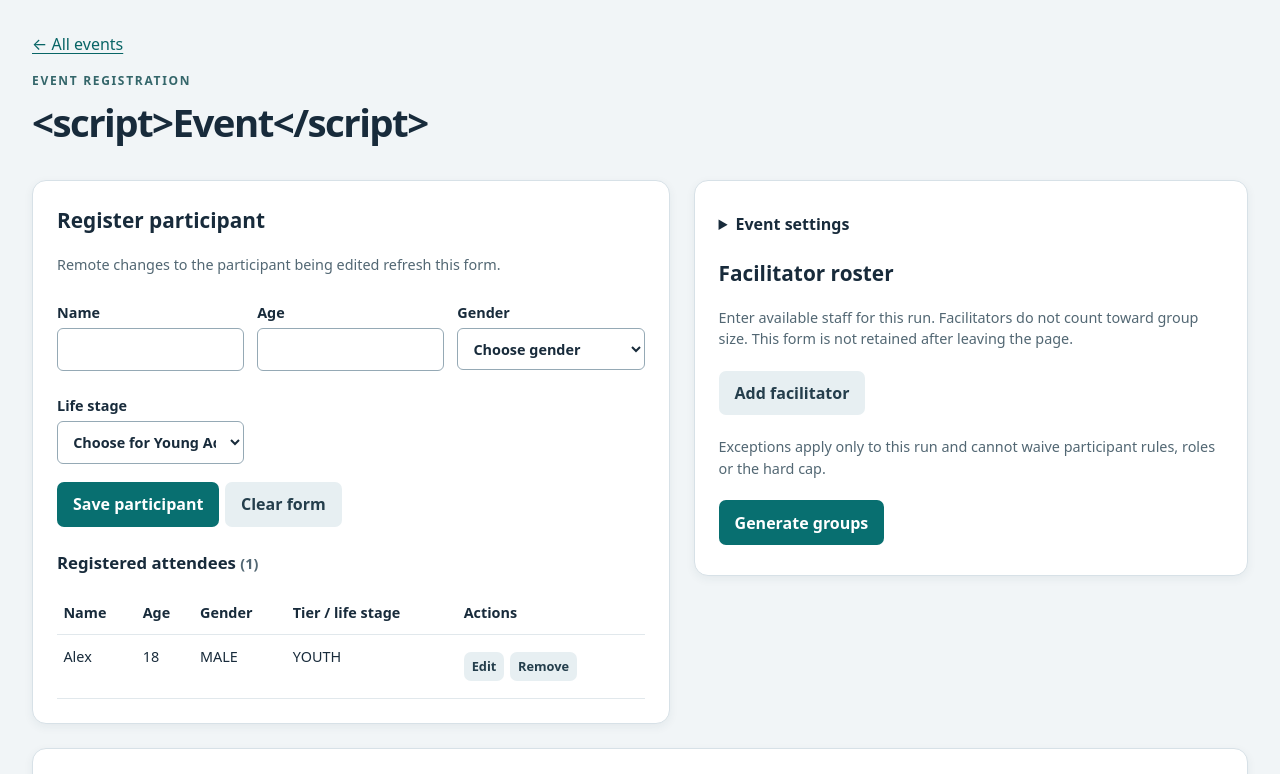
it: React registration › edits and removes the selected participant without replacing its event ownership
Click the button "Edit": (484, 666) top-left (464, 652), bottom-right (504, 681)
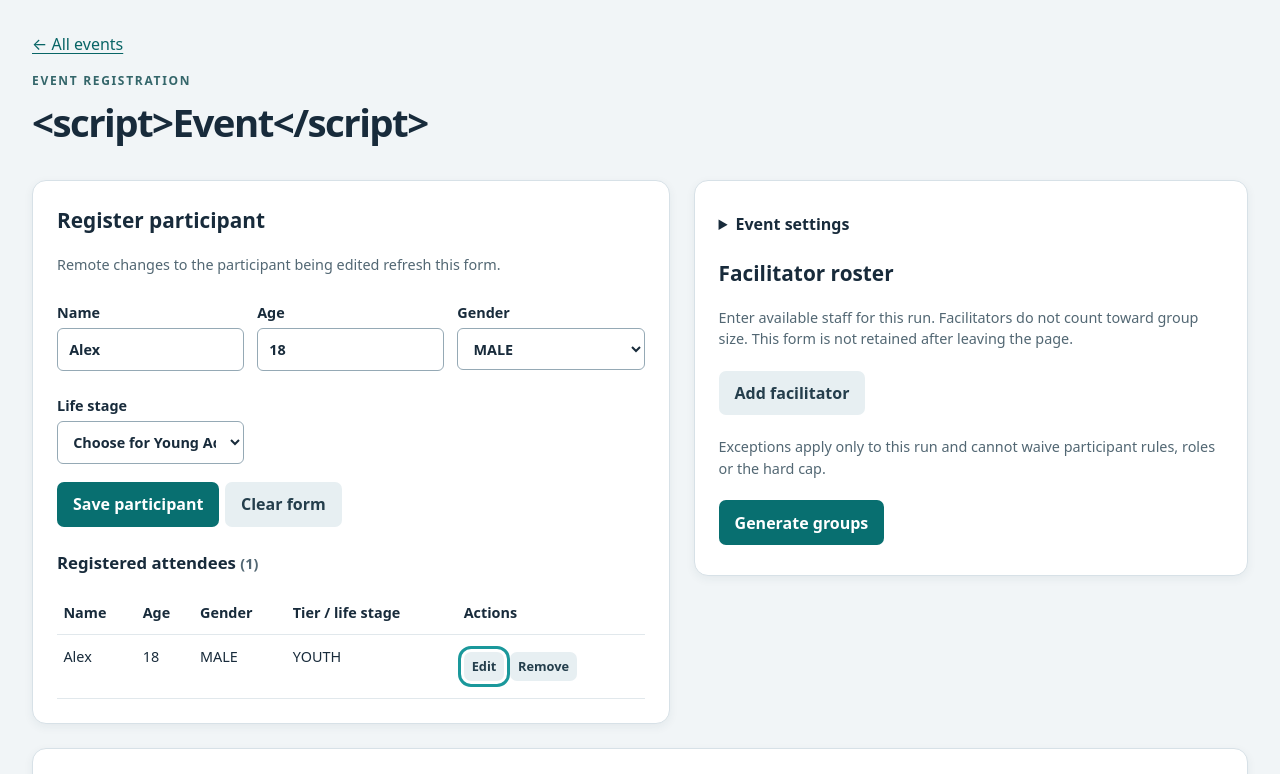
Replace the text in the number field labelled "Age" with "19": (351, 350) top-left (257, 328), bottom-right (444, 371)
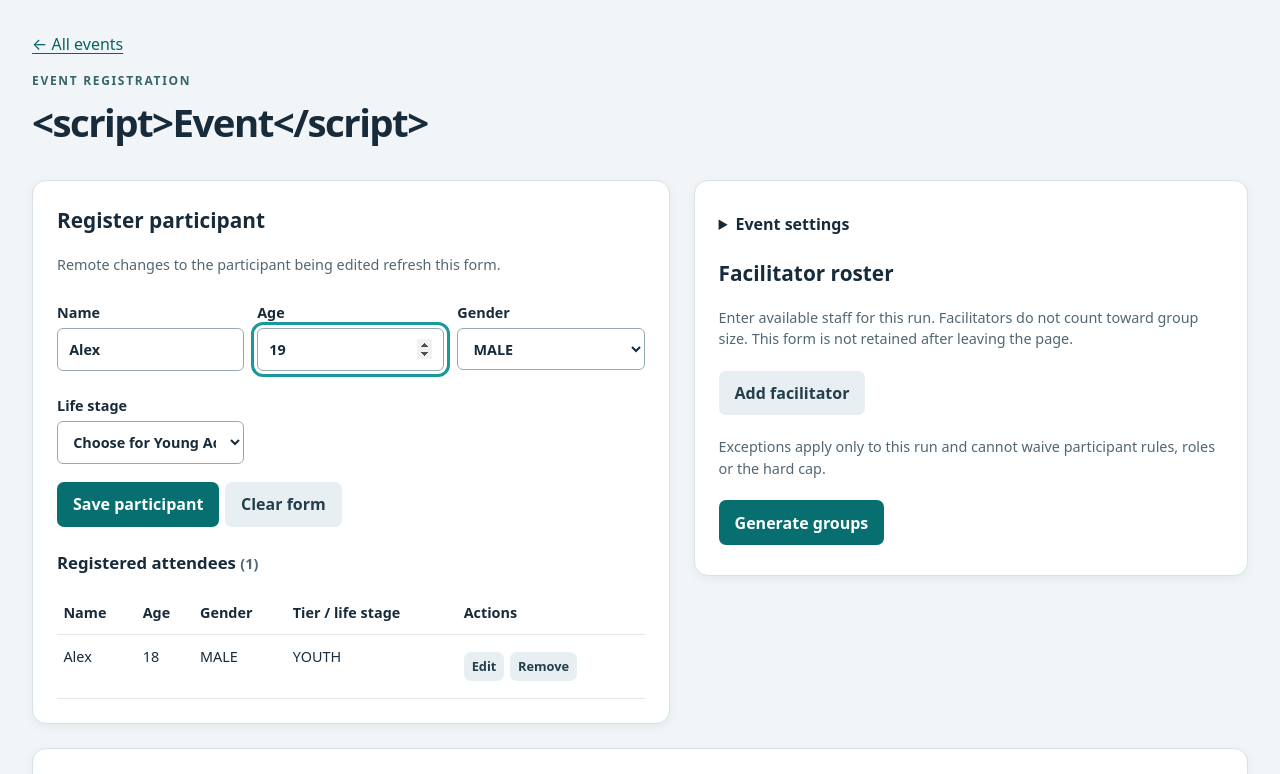
Click the button "Save participant": (138, 504) top-left (57, 482), bottom-right (219, 527)
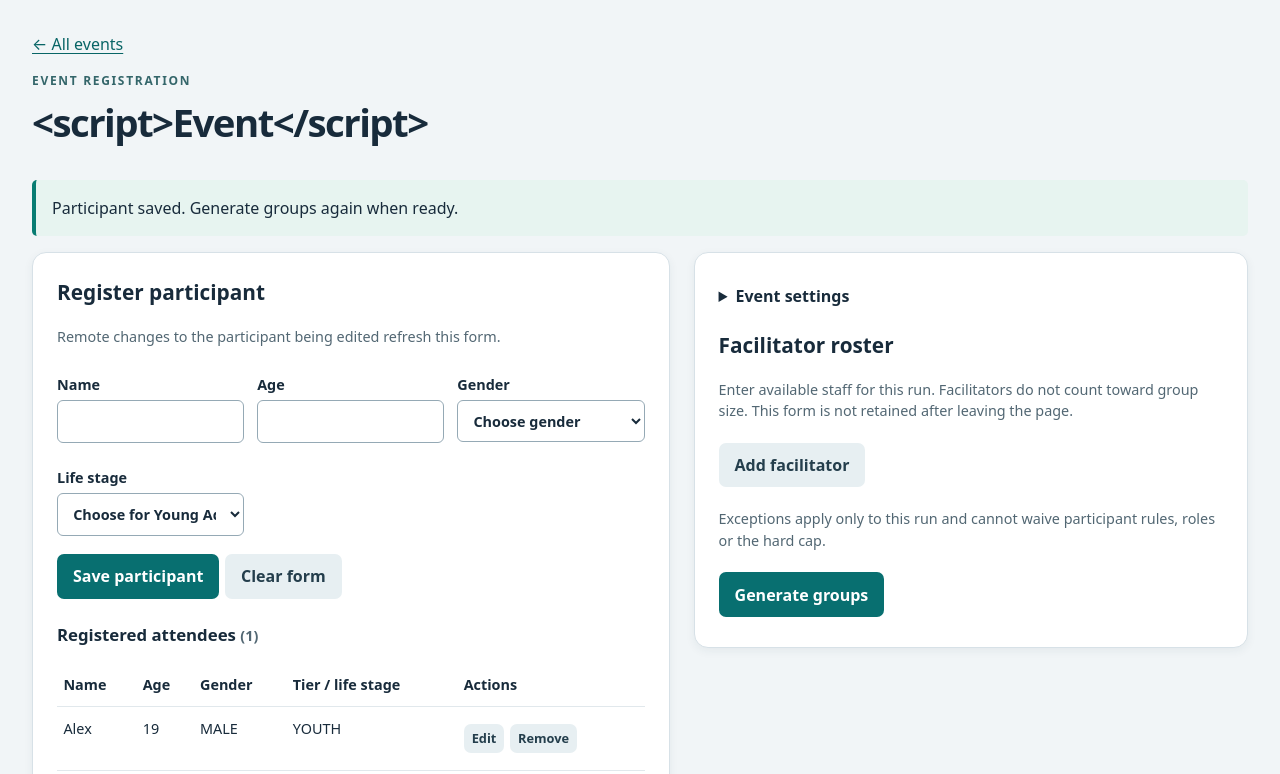
Check: the text "Participant saved. Generate groups again when ready." is shown, box top-left (32, 180), bottom-right (1248, 236)
Click the button "Remove": (544, 738) top-left (510, 724), bottom-right (577, 753)
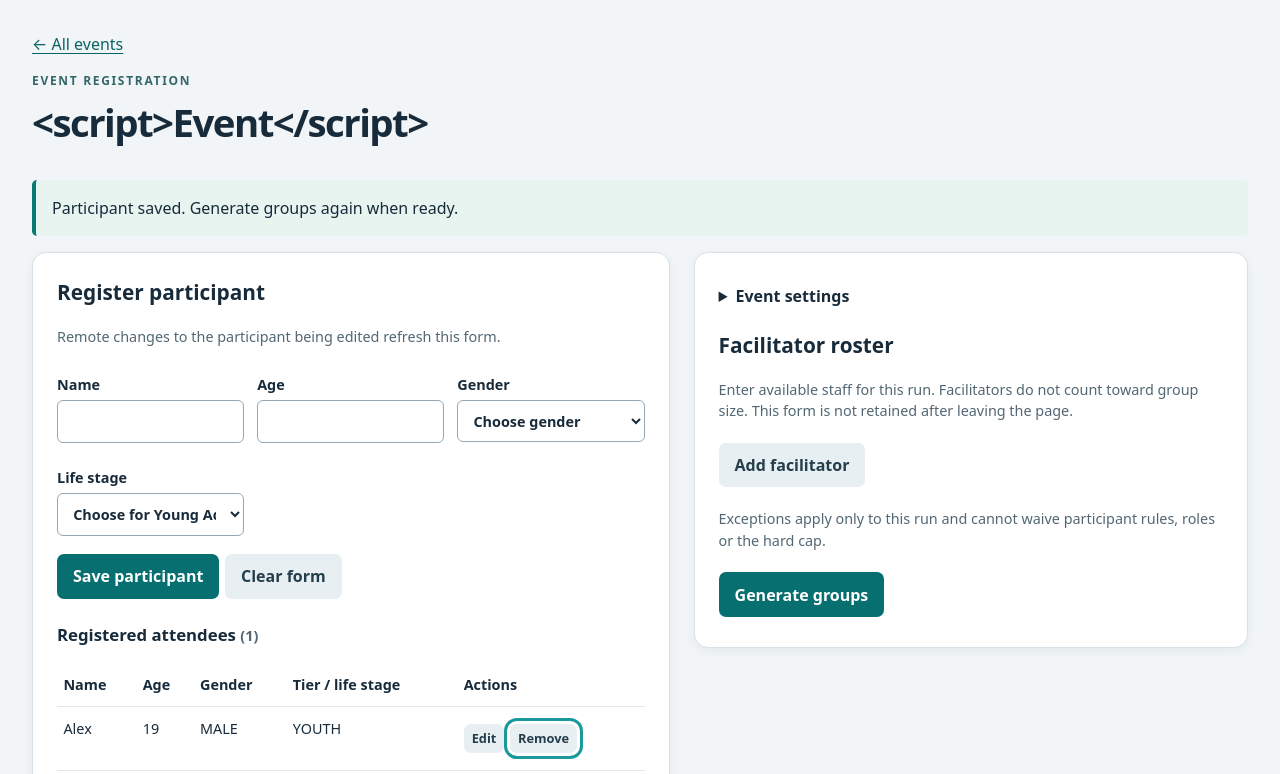
Click the button "Remove": (544, 738) top-left (510, 724), bottom-right (577, 753)
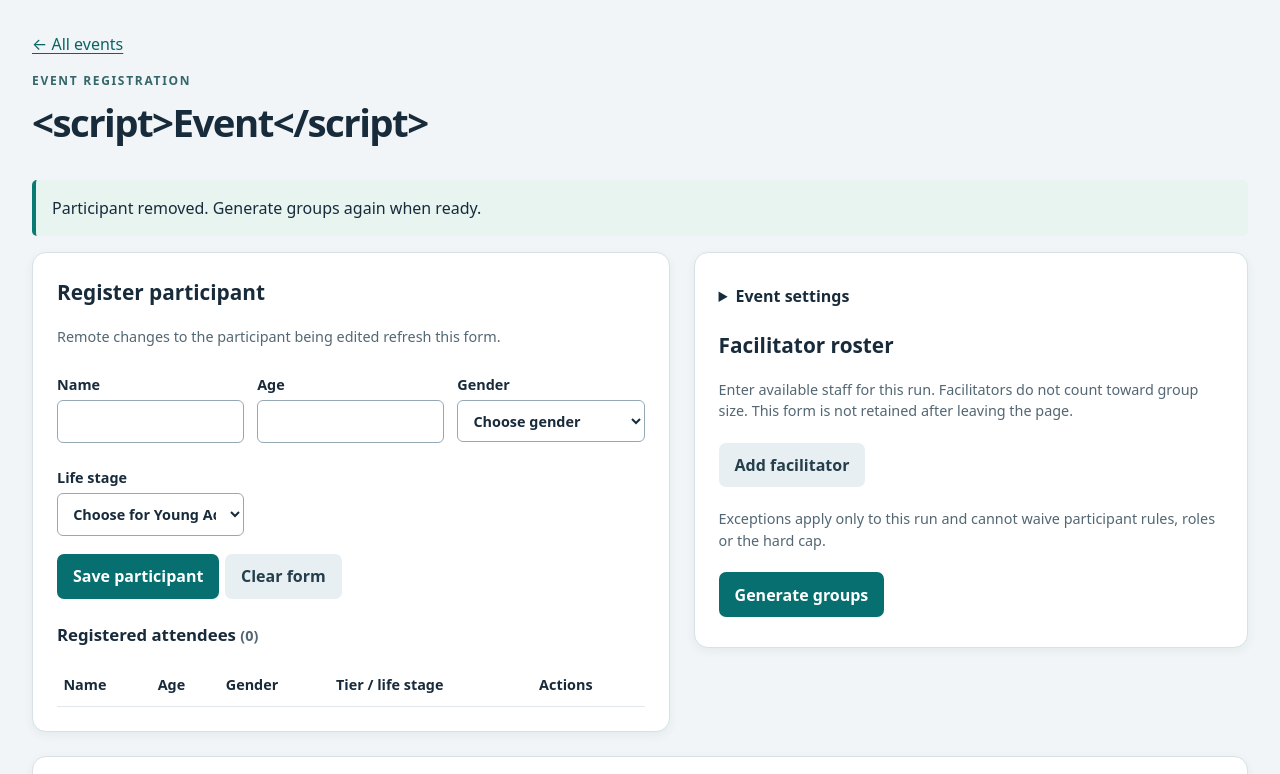
Check: the text "Participant removed. Generate groups again when ready." is shown, box top-left (32, 180), bottom-right (1248, 236)
